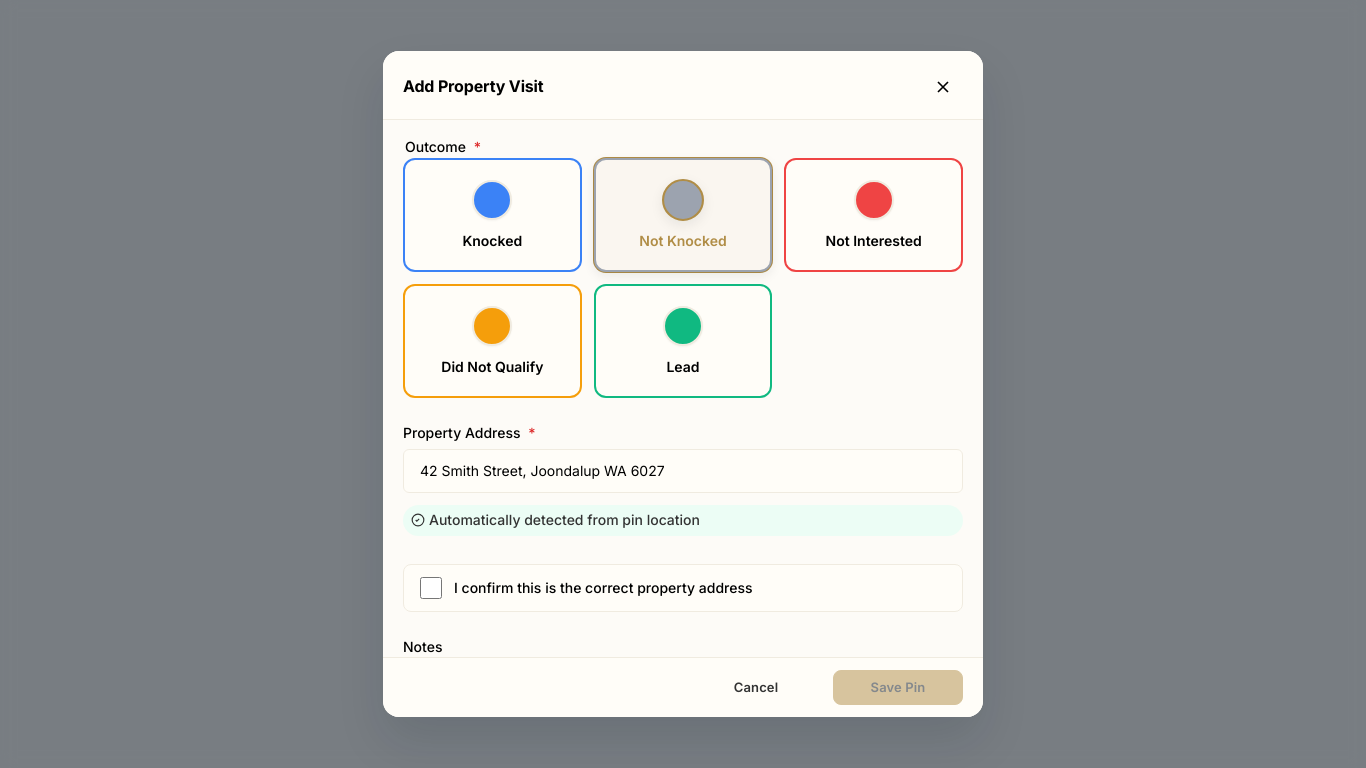
PinModal - outcome-specific contact fields › shows Lead Details and Save Lead when Lead is selected
The width and height of the screenshot is (1366, 768).
expect the field labelled "Property Address *" holds "42 Smith Street, Joondalup WA 6027": met, box [403,449,963,493]
Click the radio button labelled "Lead": (683, 341) [594,284,772,398]
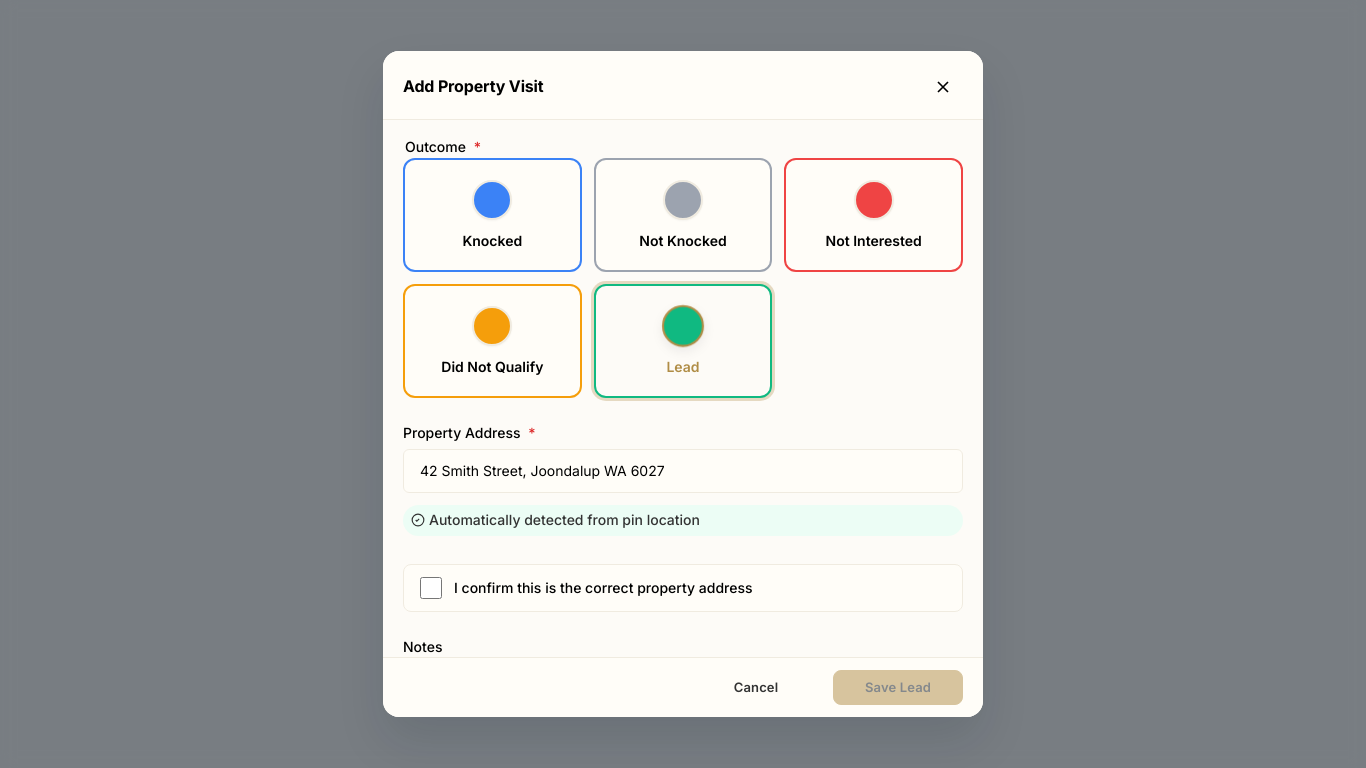
expect the button "Save Lead" is shown: met, box [833,670,963,705]
